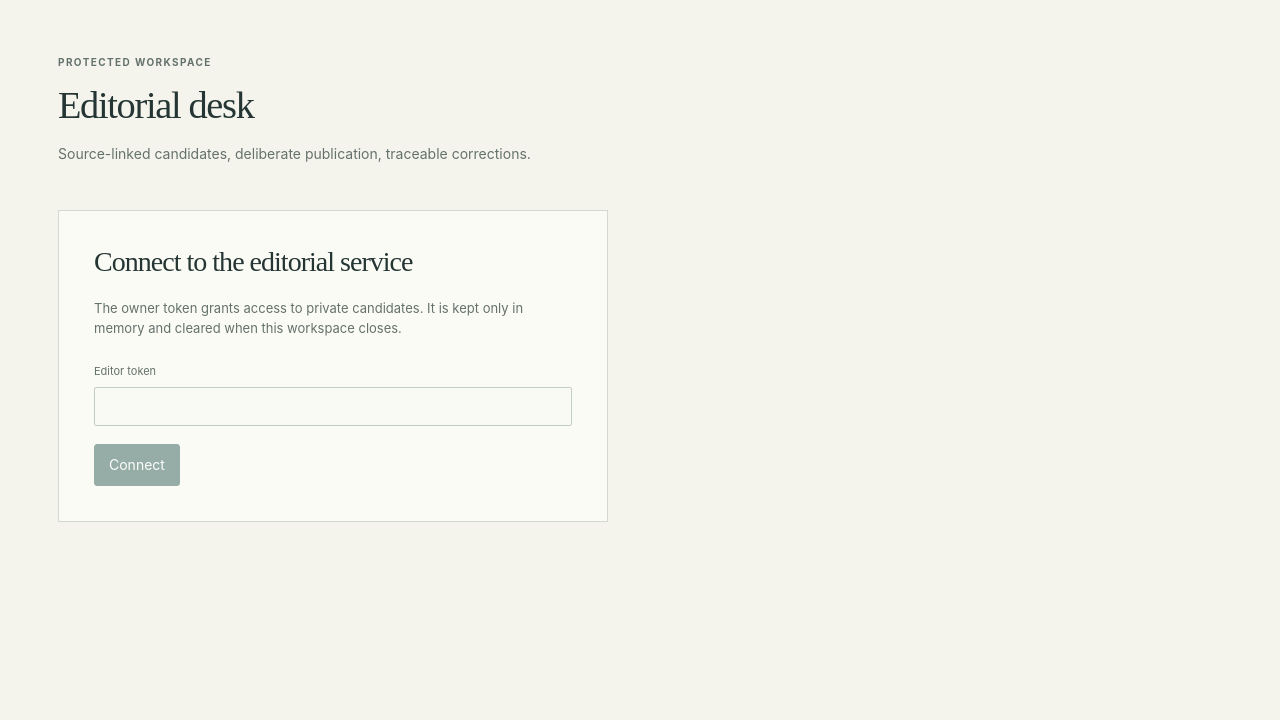
Scenario: authenticated editorial contract › sends runtime auth without persisting credentials and clears on lock
Step 1. Type "test-runtime-token" into the password field labelled "Editor token" → point(333, 407), box [94,387,572,426]
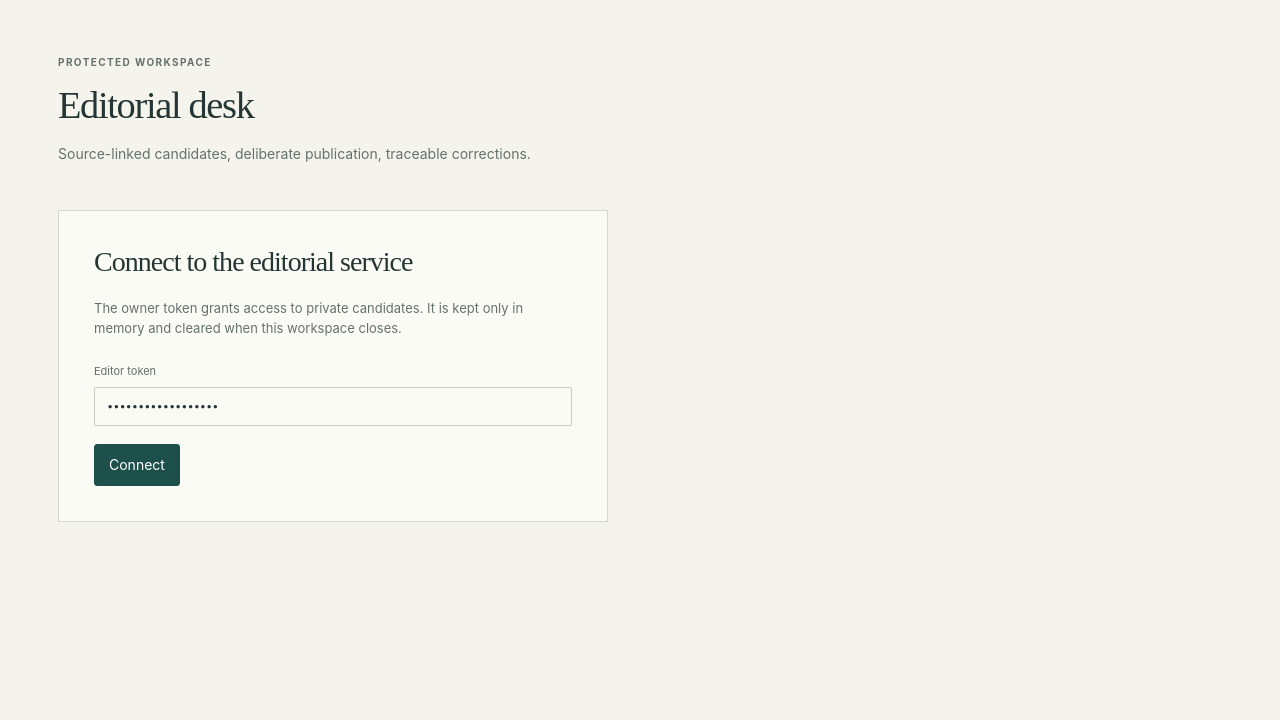
Step 2. Click the button "Connect" → point(137, 465), box [94,444,180,486]
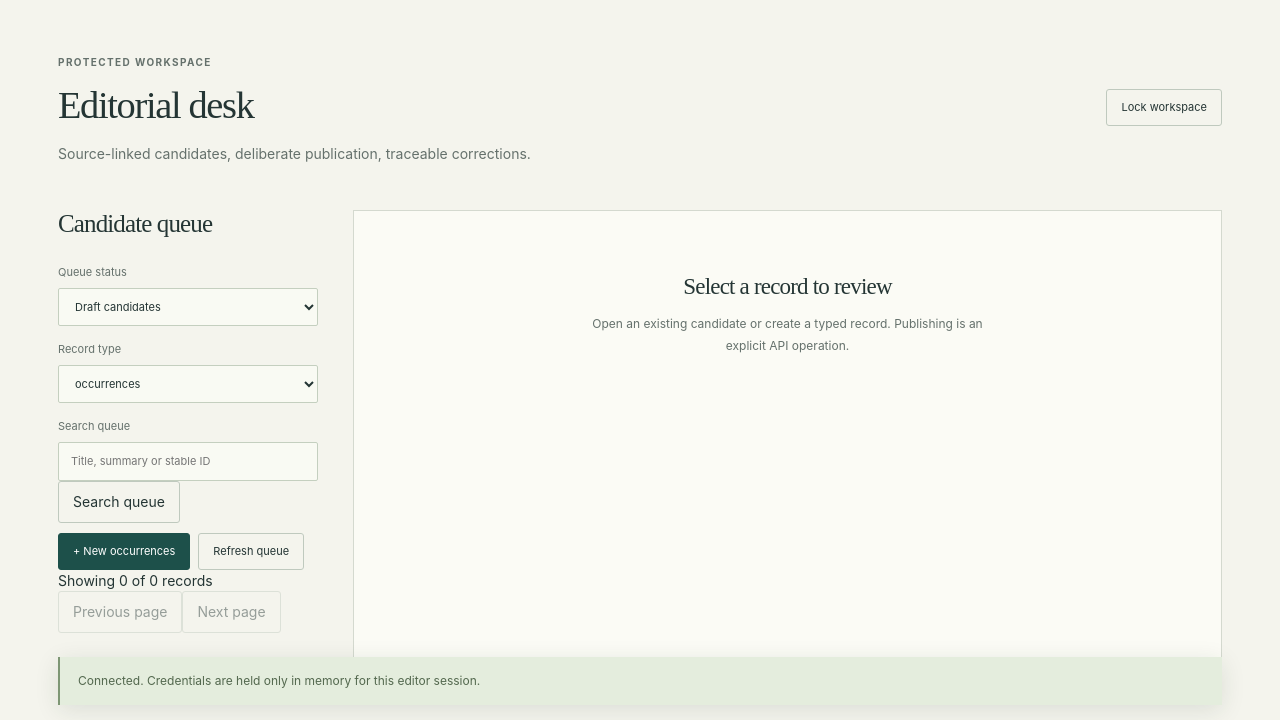
Check: the heading "Candidate queue" is shown, box [58,210,212,237]
Step 3. Click the button "Lock workspace" → point(1164, 108), box [1106,89,1222,126]
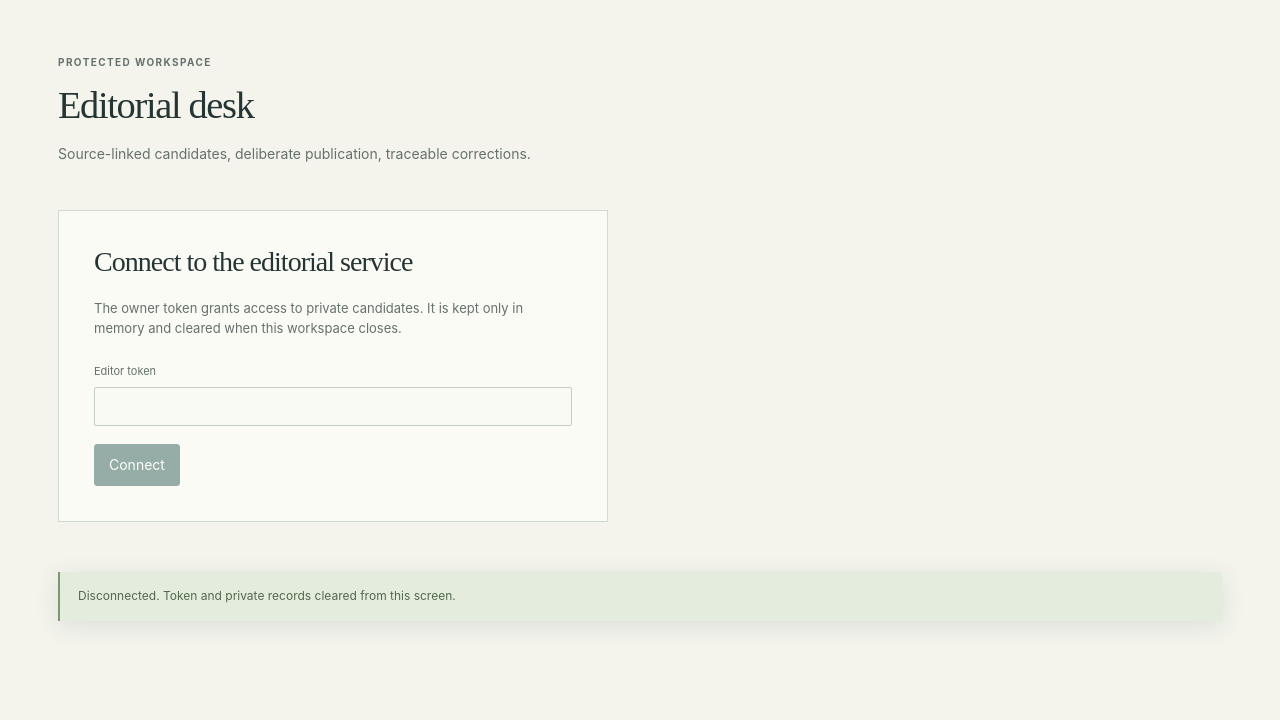
Check: the password field labelled "Editor token" is empty, box [94,387,572,426]
Check: the heading "Candidate queue" is gone
